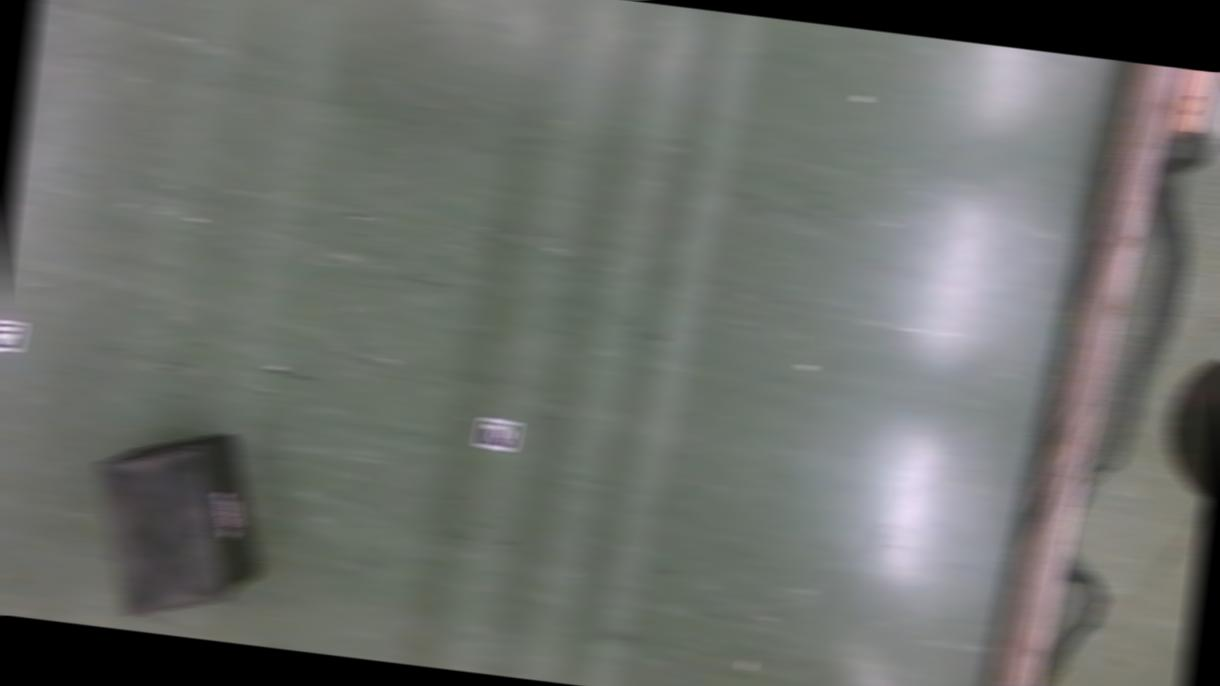rako: (76, 419, 276, 631)
